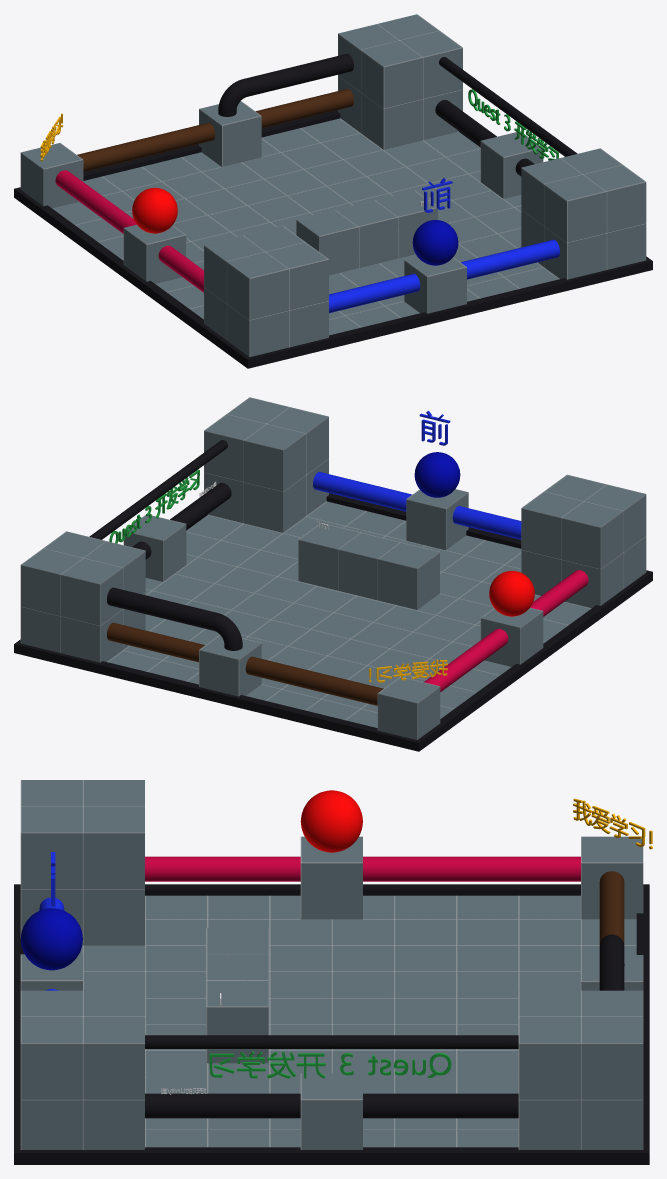
3 views of the same model, one above another, from view 1: azimuth 30°, elevation 25°; view 2: azimuth 150°, elevation 25°; view 3: azimuth 270°, elevation 25° (orthographic). The views are drawn at different scales.
Parts seen in each view (by area): view 1: Plane001, Box001, Box006, Box007, Shape001, Box009, Cylinder004, Cylinder003, Box011, Box005, Cylinder006, Box002 (+9 smaller); view 2: Plane001, Box001, Box006, Box007, Shape001, Box009, Cylinder004, Box005, Cylinder003, Box002, Box011, Cylinder006 (+10 smaller); view 3: Plane001, Box007, Box006, Shape001, Box001, Cylinder001, Cylinder002, Box009, Cylinder005, Box010, Box008, Box005 (+8 smaller).
Boxes of the visible parts, <box> form: Plane001: <box>52,118,559,335</box>; Box001: <box>204,226,328,356</box>; Box006: <box>521,148,646,279</box>; Box007: <box>338,14,462,149</box>; Shape001: <box>14,110,652,368</box>; Box009: <box>296,190,438,275</box>; Cylinder004: <box>77,89,353,171</box>; Cylinder003: <box>329,239,559,313</box>; Box011: <box>199,101,261,166</box>; Box005: <box>20,143,83,208</box>; Cylinder006: <box>218,53,353,116</box>; Box002: <box>404,257,466,313</box>; Plane001: <box>107,501,591,727</box>; Box001: <box>521,474,646,608</box>; Box006: <box>204,397,328,532</box>; Box007: <box>20,531,145,662</box>; Shape001: <box>14,493,652,751</box>; Box009: <box>298,523,439,609</box>; Cylinder004: <box>107,622,383,705</box>; Box005: <box>377,676,440,739</box>; Cylinder003: <box>313,472,521,539</box>; Box002: <box>406,489,468,550</box>; Box011: <box>199,635,261,696</box>; Cylinder006: <box>107,587,242,650</box>; Plane001: <box>79,895,636,1147</box>; Box007: <box>518,990,643,1149</box>; Box006: <box>20,990,144,1149</box>; Shape001: <box>14,884,649,1164</box>; Box001: <box>20,780,144,945</box>; Cylinder001: <box>145,856,580,881</box>; Cylinder002: <box>145,1093,518,1118</box>; Box009: <box>206,928,268,1063</box>; Cylinder005: <box>145,1035,518,1048</box>; Box010: <box>300,1073,362,1149</box>; Box008: <box>300,836,362,919</box>; Box005: <box>581,836,643,919</box>.
Bounding box in the file's own units: 10.24 × 3.1 × 10.26.
10 materials, 1 textured.
